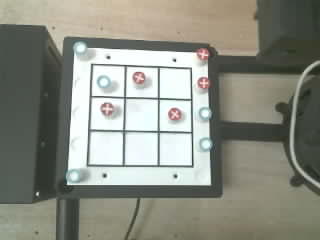blue circle: (73, 41, 87, 54), (66, 169, 80, 182), (199, 137, 212, 151), (97, 75, 110, 88), (199, 107, 211, 120)
board: (66, 41, 212, 185)
cells: (125, 132, 157, 165), (89, 132, 122, 164), (91, 65, 124, 96), (90, 98, 123, 129), (160, 133, 191, 165), (125, 99, 157, 130), (160, 100, 191, 131), (159, 68, 191, 98), (126, 67, 157, 97)
grid: (87, 64, 193, 166)
red cross: (133, 72, 146, 85), (100, 102, 113, 115), (197, 77, 211, 89), (196, 48, 209, 60), (168, 108, 181, 120)
